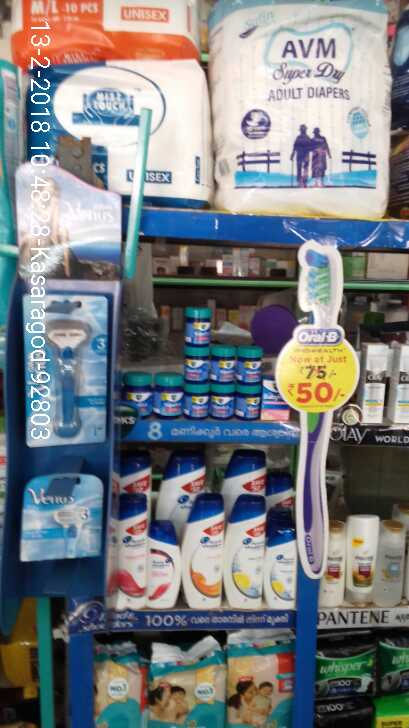beauty: (25, 298, 117, 438), (16, 474, 103, 557), (223, 497, 269, 614), (182, 493, 223, 608), (108, 493, 146, 612), (352, 338, 391, 423), (376, 520, 409, 612), (148, 519, 180, 606), (270, 530, 299, 608), (320, 525, 347, 608), (350, 517, 373, 609), (389, 339, 409, 438)
pharmacy: (146, 652, 228, 728), (225, 650, 294, 728), (93, 654, 143, 728), (313, 642, 375, 695), (374, 640, 408, 688), (180, 303, 215, 345), (126, 364, 150, 416), (155, 372, 181, 420), (230, 385, 259, 422), (207, 382, 235, 419), (181, 349, 209, 385), (233, 345, 261, 380), (182, 380, 208, 416), (212, 347, 236, 385)
